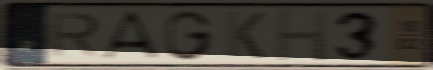3: (332, 8, 388, 63)
A: (98, 9, 165, 61)
G: (162, 8, 216, 62)
H: (273, 7, 331, 64)
K: (223, 9, 267, 61)
R: (47, 11, 103, 58)
